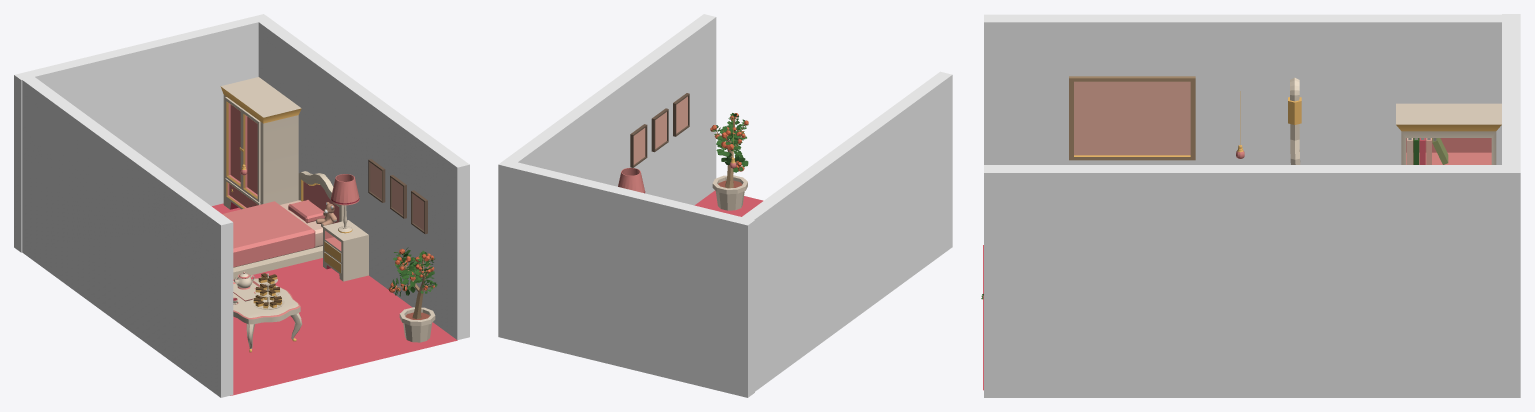
The model's file is Teacup_room.fbx.
3 views of the same model, side by side, from view 1: azimuth 30°, elevation 25°; view 2: azimuth 150°, elevation 25°; view 3: azimuth 270°, elevation 25° (orthographic). The views are drawn at different scales.
Parts seen in each view (by area): view 1: walls, polySurface781, polySurface585, polySurface695, tree_polySurface887, polySurface613, polySurface685, table, MrDeer_room:MrDeer_room:polySurface648, cakething_15; view 2: walls, tree_polySurface887, polySurface685, polySurface781, MrDeer_room:MrDeer_room:polySurface648; view 3: walls, polySurface686, polySurface754, polySurface15.
Boxes of the visible parts, x1=… form: walls: x1=14, y1=14, x2=469, y2=397; polySurface781: x1=212, y1=203, x2=457, y2=395; polySurface585: x1=220, y1=77, x2=301, y2=209; polySurface695: x1=222, y1=171, x2=344, y2=279; tree_polySurface887: x1=388, y1=247, x2=437, y2=342; polySurface613: x1=323, y1=220, x2=368, y2=281; polySurface685: x1=368, y1=159, x2=427, y2=234; table: x1=233, y1=278, x2=302, y2=352; MrDeer_room:MrDeer_room:polySurface648: x1=331, y1=174, x2=359, y2=233; cakething_15: x1=253, y1=273, x2=281, y2=308; walls: x1=498, y1=14, x2=952, y2=397; tree_polySurface887: x1=710, y1=113, x2=748, y2=210; polySurface685: x1=630, y1=93, x2=689, y2=167; polySurface781: x1=694, y1=190, x2=763, y2=216; MrDeer_room:MrDeer_room:polySurface648: x1=618, y1=167, x2=645, y2=193; walls: x1=984, y1=14, x2=1520, y2=397; polySurface686: x1=1069, y1=76, x2=1195, y2=160; polySurface754: x1=1396, y1=103, x2=1501, y2=164; polySurface15: x1=1288, y1=77, x2=1301, y2=164.
Size of the model in its own units: 32.93 by 21.92 by 47.24.
Materials: 20 (20 with a texture image).
